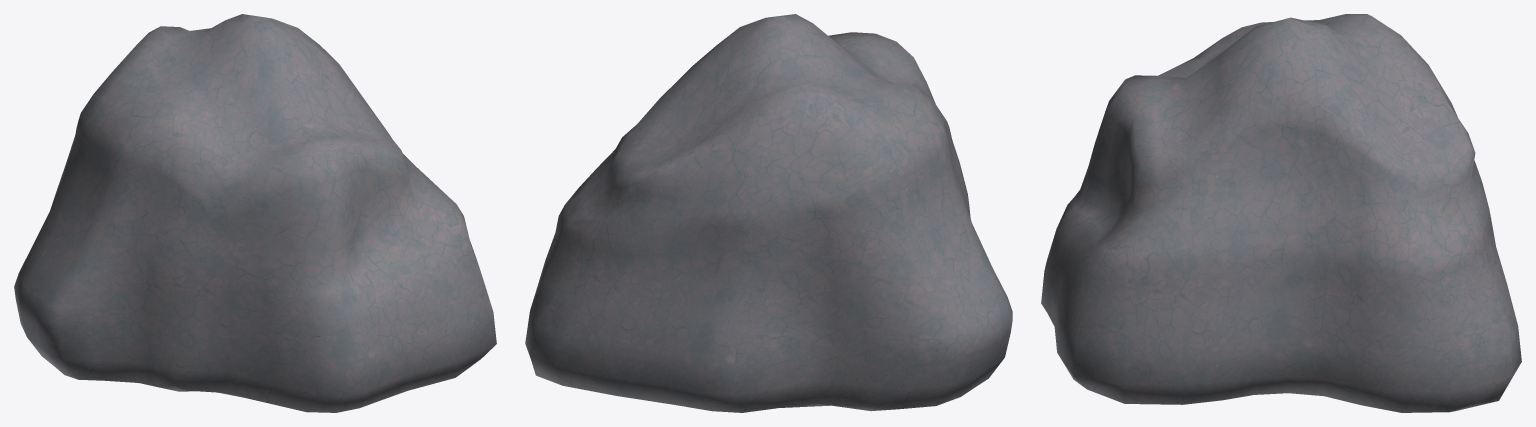
Rendered from Rock_4.fbx.
The picture shows the model from 3 angles, left to right: view 1: azimuth 30°, elevation 25°; view 2: azimuth 150°, elevation 25°; view 3: azimuth 270°, elevation 25°; orthographic projection. The views are drawn at different scales.
Parts seen in each view (by area): view 1: Rock_4; view 2: Rock_4; view 3: Rock_4.
Boxes of the visible parts, x1,y1,x2,y2 form: Rock_4: (14,14,496,412); Rock_4: (525,14,1012,412); Rock_4: (1041,14,1521,412).
Size of the model in its own units: 129 by 100 by 135.
